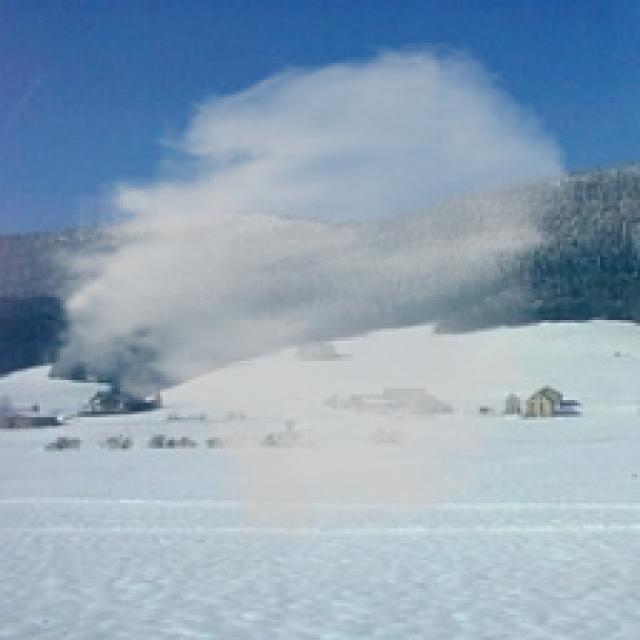smoke: (23, 37, 580, 552)
